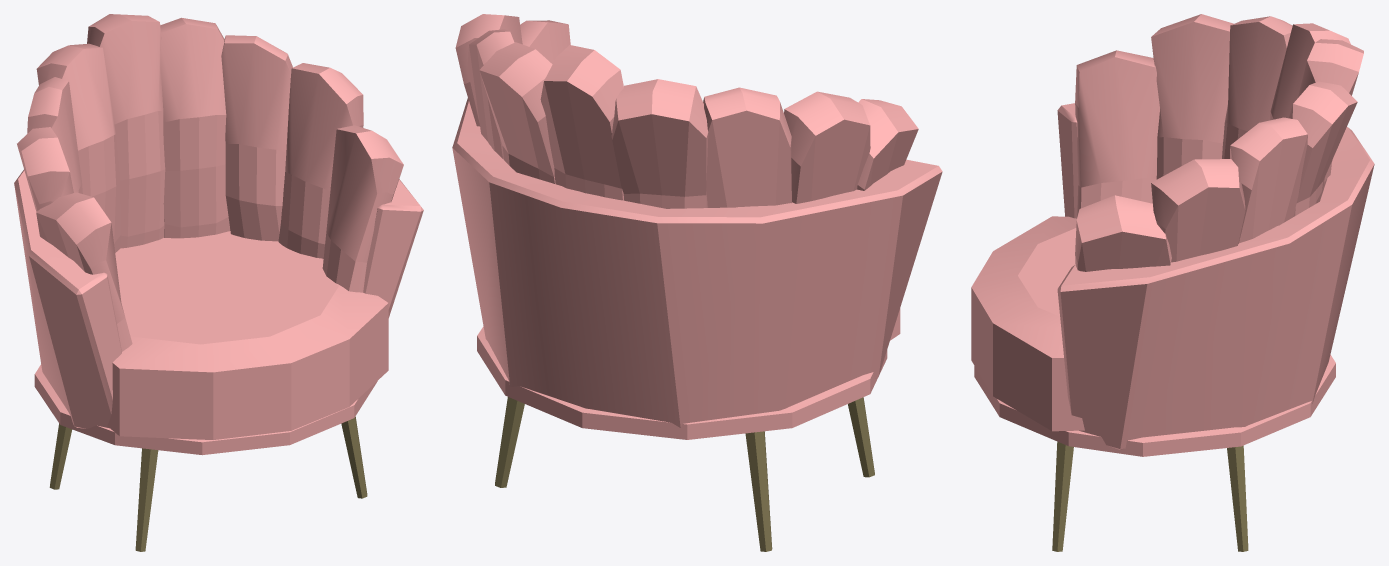
The model's file is SILLA CONCHA.fbx.
The picture shows the model from 3 angles, left to right: view 1: azimuth 30°, elevation 25°; view 2: azimuth 150°, elevation 25°; view 3: azimuth 270°, elevation 25°; orthographic projection. The views are drawn at different scales.
Parts seen in each view (by area): view 1: RESPALDO, COJIN, BASE, PATA_DEER_DEL, PATA_IZQ_DEL, PATA_DER_TRA; view 2: RESPALDO, BASE, PATA_DER_TRA, PATA_IZQ_TRA, PATA_DEER_DEL; view 3: RESPALDO, COJIN, BASE, PATA_IZQ_DEL, PATA_IZQ_TRA.
Part boxes in pixels (x1,y1,x2,y2): RESPALDO: (14,14,423,428); COJIN: (107,231,388,439); BASE: (34,364,377,455); PATA_DEER_DEL: (135,448,158,551); PATA_IZQ_DEL: (341,416,367,498); PATA_DER_TRA: (49,423,72,489); RESPALDO: (452,14,942,427); BASE: (477,326,887,439); PATA_DER_TRA: (745,431,772,551); PATA_IZQ_TRA: (495,397,524,487); PATA_DEER_DEL: (848,397,874,477); RESPALDO: (1057,14,1374,449); COJIN: (971,216,1084,431); BASE: (974,354,1335,456); PATA_IZQ_DEL: (1052,441,1073,551); PATA_IZQ_TRA: (1227,445,1248,551).
Bounding box in the file's own units: 319 × 351 × 285.
